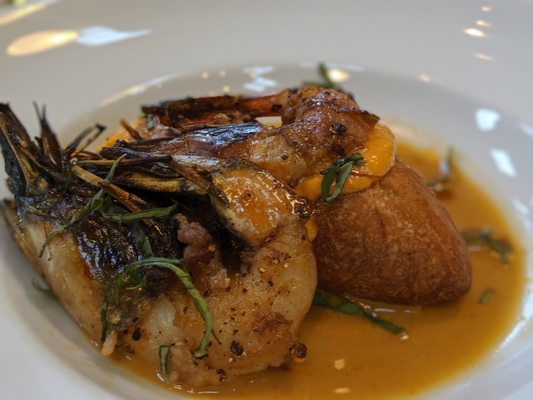soup: (7, 80, 488, 395)
